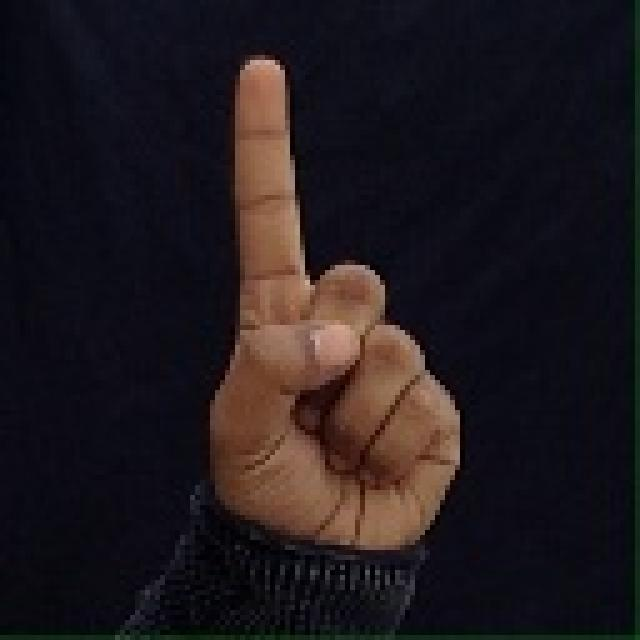One: (166, 26, 482, 612)
